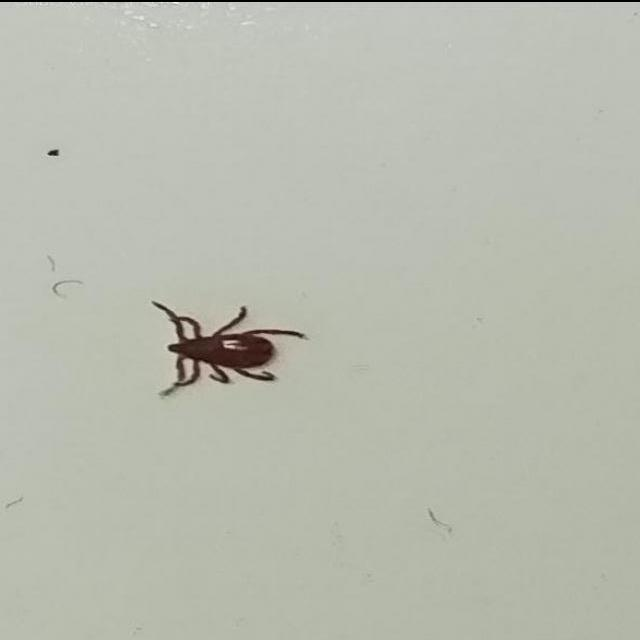Rhipicephalus Sanguineus-M: (153, 298, 309, 393)
